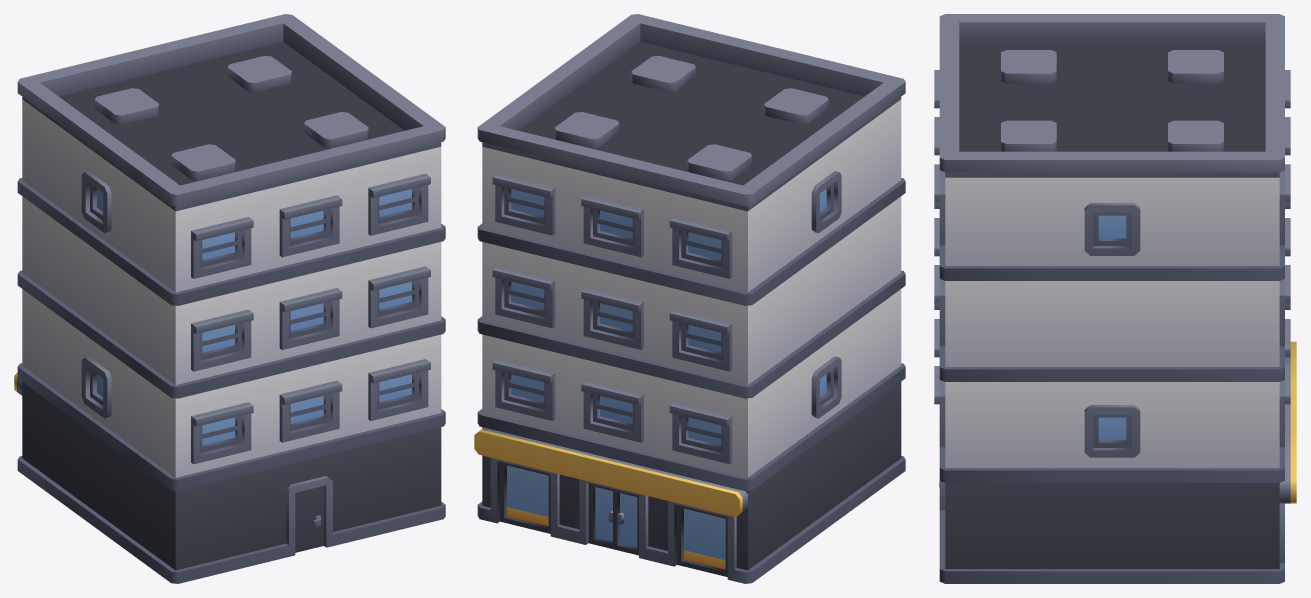
File: city_8.fbx
The picture shows the model from 3 angles, left to right: view 1: azimuth 30°, elevation 25°; view 2: azimuth 150°, elevation 25°; view 3: azimuth 270°, elevation 25°; orthographic projection. The views are drawn at different scales.
Visible parts, largest first — view 1: city_8; view 2: city_8; view 3: city_8.
Boxes of the visible parts, x1=… form: city_8: x1=14, y1=14, x2=445, y2=583; city_8: x1=474, y1=14, x2=905, y2=583; city_8: x1=934, y1=14, x2=1296, y2=583.
Bounding box in the file's own units: 1.24 × 1.68 × 1.3.
1 material, 1 textured.
